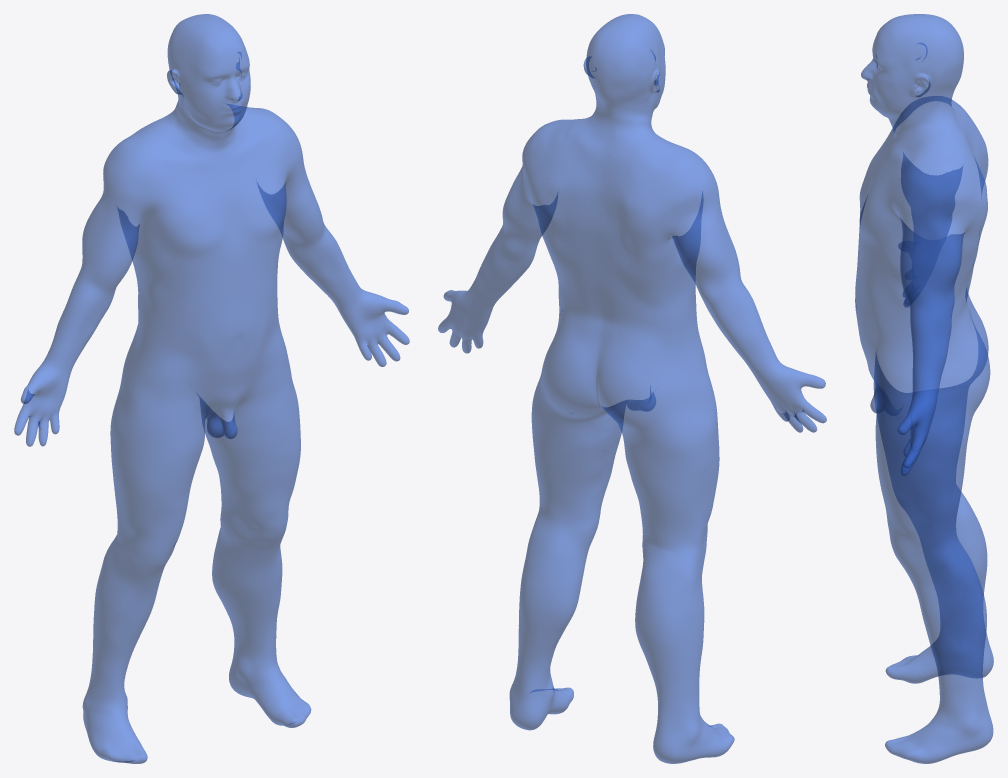
Rendered from skin-male.glb.
3 renders of one model, left to right at view 1: azimuth 30°, elevation 25°; view 2: azimuth 150°, elevation 25°; view 3: azimuth 270°, elevation 25°, orthographic. The views are drawn at different scales.
Parts seen in each view (by area): view 1: VH_M_skin; view 2: VH_M_skin; view 3: VH_M_skin.
Boxes of the visible parts, bbox=[...] form: VH_M_skin: bbox=[14, 14, 409, 763]; VH_M_skin: bbox=[438, 14, 826, 763]; VH_M_skin: bbox=[855, 14, 993, 763].
Bounding box in the file's own units: 1.04 × 1.82 × 0.3256.
